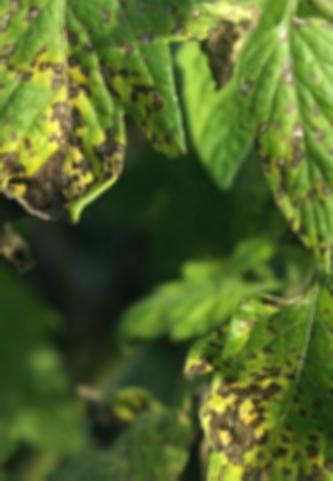Tomato Septoria leaf spot: (0, 0, 246, 207), (157, 301, 333, 481), (234, 12, 333, 278)
